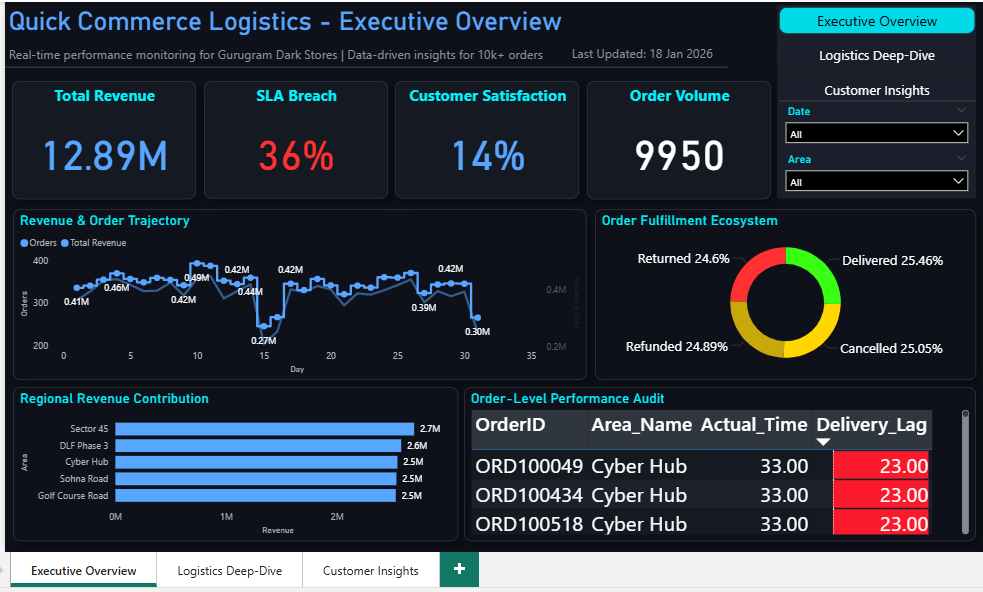

This screenshot's page, from the dashboard's own definition file:
{"tool":"powerbi","page":{"name":"Executive Overview","canvas":[1280,720],"ordinal":0},"visuals":[{"type":"card","title":"Total Revenue","fields":{"Values":["Measure.Total Revenue"]},"box":[9.6,103.2,241,155],"z":0},{"type":"textbox","box":[0,0,784.5,52.1],"z":1000},{"type":"textbox","box":[0,52.1,722.3,33.6],"z":2000},{"type":"shape","box":[0,68.9,945.7,31.9],"z":3000},{"type":"card","fields":{"Values":["Measure.Last Updated"]},"box":[722.3,48.7,223.4,42],"z":4000},{"type":"card","title":"SLA Breach","fields":{"Values":["Measure.SLA Breach %"]},"box":[260.3,103.4,241,154.5],"z":5000},{"type":"card","title":"Customer Satisfaction","fields":{"Values":["Measure.Avg Sentiment"]},"box":[511,103.4,241,154.5],"z":6000},{"type":"card","title":"Order Volume","fields":{"Values":["Measure.Total Orders"]},"box":[761.6,103.4,241,155],"z":7000},{"type":"lineChart","title":"Revenue & Order Trajectory","fields":{"Category":["major_quick_commerece_db fact_orders.OrderDate.Variation.Date Hierarchy.Day"],"Y":["Measure.Total Orders"],"Y2":["Measure.Total Revenue"]},"box":[10.5,271,751.4,223.9],"z":8000},{"type":"shape","box":[1010.6,3.9,260.5,252.7],"z":9000},{"type":"clusteredBarChart","title":"Regional Revenue Contribution","fields":{"Category":["major_quick_commerece_db dim_areas.Area_Name"],"Y":["Measure.Total Revenue"]},"box":[10.1,504,583.2,201.6],"z":10000},{"type":"donutChart","title":"Order Fulfillment Ecosystem","fields":{"Category":["major_quick_commerece_db dim_status.Delivery_Status"],"Y":["Measure.Total Orders"]},"box":[772.4,271,498.8,223.9],"z":11000},{"type":"tableEx","title":"Order-Level Performance Audit","fields":{"Values":["major_quick_commerece_db fact_orders.OrderID","major_quick_commerece_db dim_areas.Area_Name","major_quick_commerece_db fact_orders.Actual_Time","major_quick_commerece_db fact_orders.Delivery_Lag"]},"box":[600.5,504,669.6,201.6],"z":12000},{"type":"pageNavigator","box":[1013.2,6.5,257.9,125.7],"z":13000},{"type":"slicer","fields":{"Values":["major_quick_commerece_db dim_status.Delivery_Status"]},"box":[1012.3,129.6,259.2,63.4],"z":14000},{"type":"slicer","fields":{"Values":["major_quick_commerece_db dim_areas.Area_Name"]},"box":[1012.3,193,259.2,63.4],"z":15000},{"type":"shape","box":[1013.2,113.9,257.9,31.4],"z":16000}]}

Visuals, with their boxes on the page's 1280x720 design canvas (x1, y1, x2, y2). These are canvas units, not pixel positions in the 983x592 screenshot, which may show the page scaled, cropped or inside an application window:
"Total Revenue" card: detection(10, 103, 251, 258)
textbox: detection(0, 0, 784, 52)
textbox: detection(0, 52, 722, 86)
shape: detection(0, 69, 946, 101)
card - Measure.Last Updated: detection(722, 49, 946, 91)
"SLA Breach" card: detection(260, 103, 501, 258)
"Customer Satisfaction" card: detection(511, 103, 752, 258)
"Order Volume" card: detection(762, 103, 1003, 258)
"Revenue & Order Trajectory" lineChart: detection(10, 271, 762, 495)
shape: detection(1011, 4, 1271, 257)
"Regional Revenue Contribution" clusteredBarChart: detection(10, 504, 593, 706)
"Order Fulfillment Ecosystem" donutChart: detection(772, 271, 1271, 495)
"Order-Level Performance Audit" tableEx: detection(600, 504, 1270, 706)
pageNavigator: detection(1013, 6, 1271, 132)
slicer - major_quick_commerece_db dim_status.Delivery_Status: detection(1012, 130, 1272, 193)
slicer - major_quick_commerece_db dim_areas.Area_Name: detection(1012, 193, 1272, 256)
shape: detection(1013, 114, 1271, 145)
